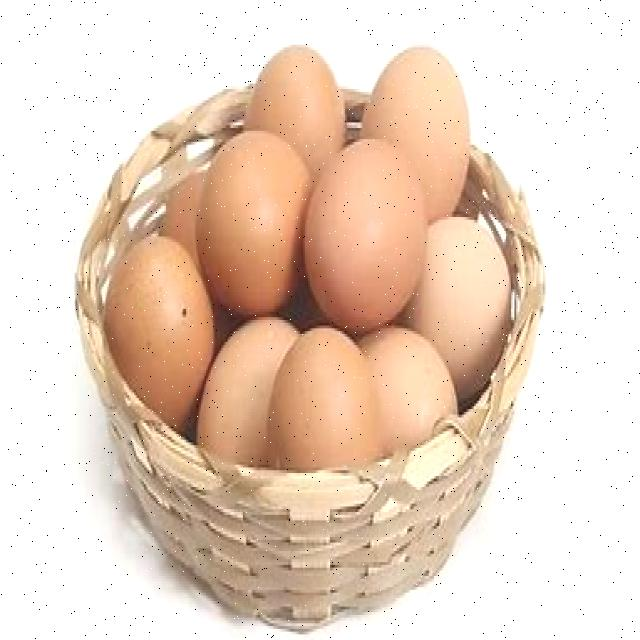Brown Egg: (313, 143, 426, 336), (191, 127, 307, 311), (363, 32, 473, 216), (101, 234, 211, 416), (194, 311, 297, 485), (407, 208, 517, 369), (272, 323, 378, 480), (242, 38, 353, 169), (358, 312, 443, 447)
